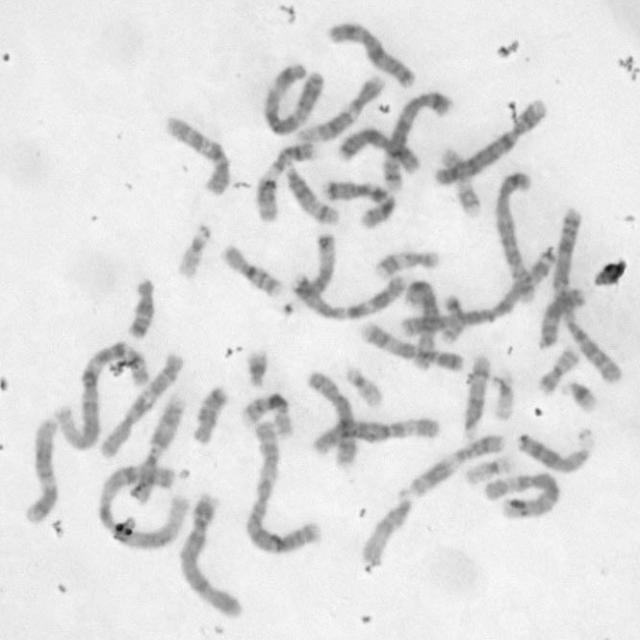A1: (50, 336, 151, 451), (94, 458, 190, 551)
A2: (548, 204, 624, 386), (244, 415, 324, 556)
A3: (399, 244, 559, 338), (260, 59, 325, 135)
B4: (430, 94, 549, 187), (174, 489, 246, 621)
B5: (380, 86, 455, 192), (491, 167, 539, 305)
C10: (95, 349, 185, 460), (161, 110, 233, 198)
C11: (402, 428, 506, 498), (253, 137, 318, 224)
C12: (293, 72, 386, 142), (19, 411, 61, 526)
C6: (308, 411, 443, 457), (480, 465, 562, 523)
C7: (289, 268, 406, 322), (318, 174, 397, 229)
C8: (302, 367, 359, 469), (401, 276, 441, 373)
C9: (126, 392, 189, 506), (356, 318, 465, 372)
D13: (512, 423, 595, 474), (534, 285, 590, 350)
D14: (281, 159, 342, 226), (458, 349, 494, 441)
D15: (281, 231, 341, 316), (357, 483, 416, 566)
E16: (217, 240, 285, 300), (236, 388, 292, 441)
E17: (437, 143, 483, 219), (372, 246, 442, 280)
E18: (189, 380, 230, 446), (123, 274, 159, 339)
F19: (461, 450, 516, 486), (489, 367, 517, 422)
F20: (535, 344, 581, 396), (438, 289, 466, 344)
G21: (557, 378, 598, 413), (242, 346, 270, 389)
G22: (172, 218, 215, 280), (342, 361, 384, 409)
X: (323, 16, 419, 88), (333, 123, 422, 175)
